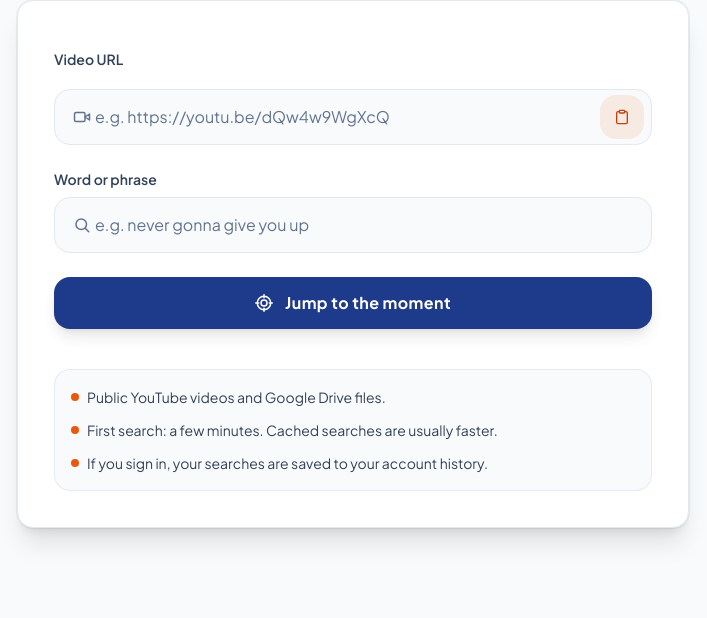
Scenario: SearchForm › shows per-field errors when both fields are empty
Click the button "Jump to the moment" at (353, 303), box [54,277,652,329]
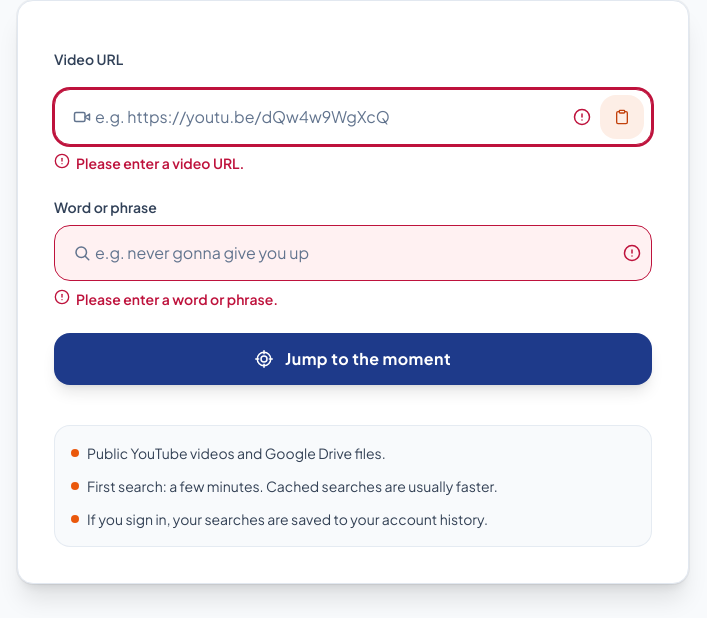
Check: the text "Please enter a video URL." is shown, box [54,153,244,172]
Check: the text "Please enter a word or phrase." is shown, box [54,289,278,308]
